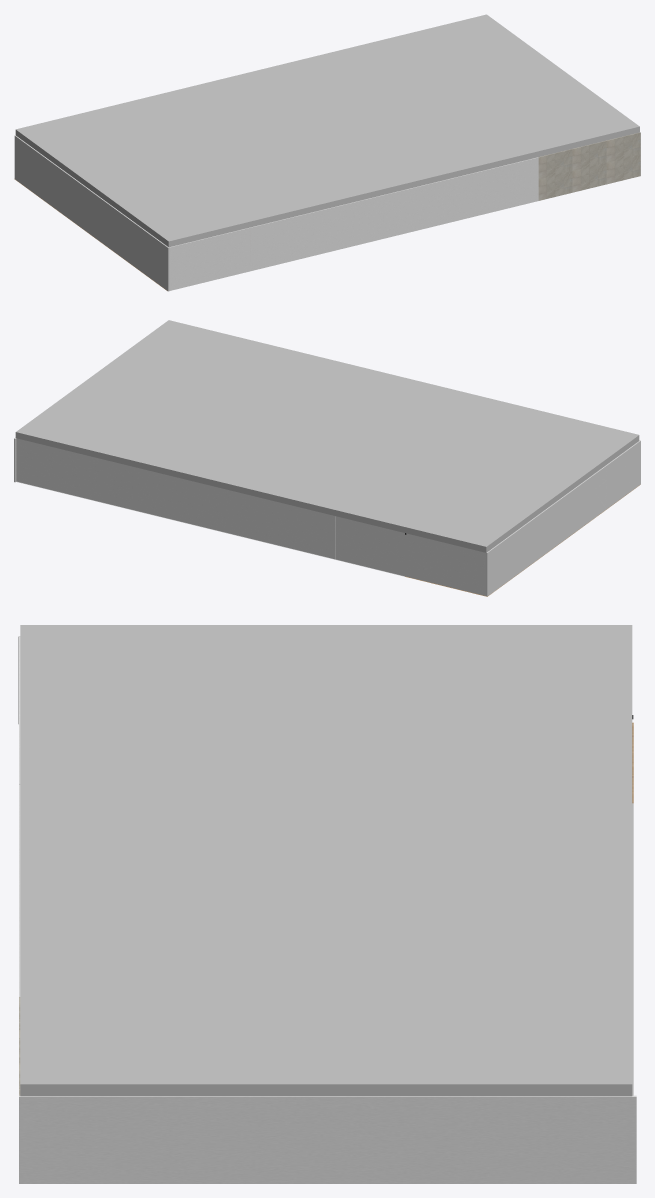
File: office .fbx
The picture shows the model from 3 angles, top to bottom: view 1: azimuth 30°, elevation 25°; view 2: azimuth 150°, elevation 25°; view 3: azimuth 270°, elevation 25°; orthographic projection. The views are drawn at different scales.
Visible parts, largest first — view 1: ceiling, outer walls, bathroom rear wall, Cube.151, Cube.152, Cube.153; view 2: ceiling, outer walls, Cube.151, Cube.152, Cube.153, Plane; view 3: ceiling, outer walls.
Boxes of the visible parts, x1,y1,x2,y2 form: ceiling: (15,14,639,247); outer walls: (169,132,640,290); bathroom rear wall: (538,132,640,200); Cube.151: (14,135,77,224); Cube.152: (77,181,134,265); Cube.153: (134,222,169,291); ceiling: (15,320,639,552); outer walls: (14,437,486,595); Cube.151: (486,507,549,596); Cube.152: (549,465,606,550); Cube.153: (606,440,640,508); Plane: (16,481,404,576); ceiling: (20,625,632,1096); outer walls: (19,636,636,1183).
Size of the model in its own units: 8754 by 884 by 4959.
